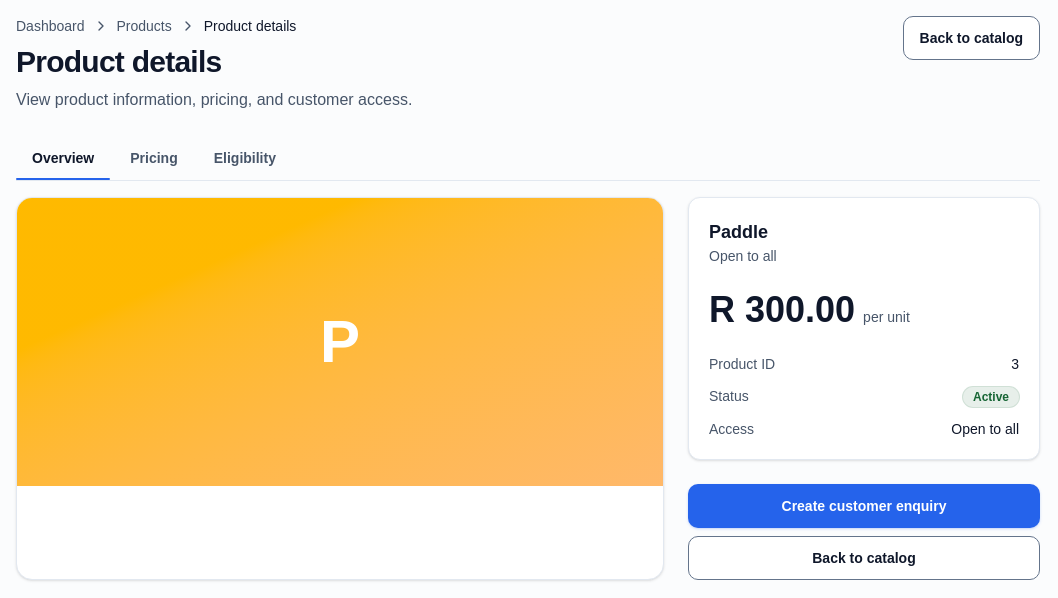
ProductDetails › switches tabs
The width and height of the screenshot is (1058, 598).
Click the tab "Pricing": (154, 158) [114,136,194,180]
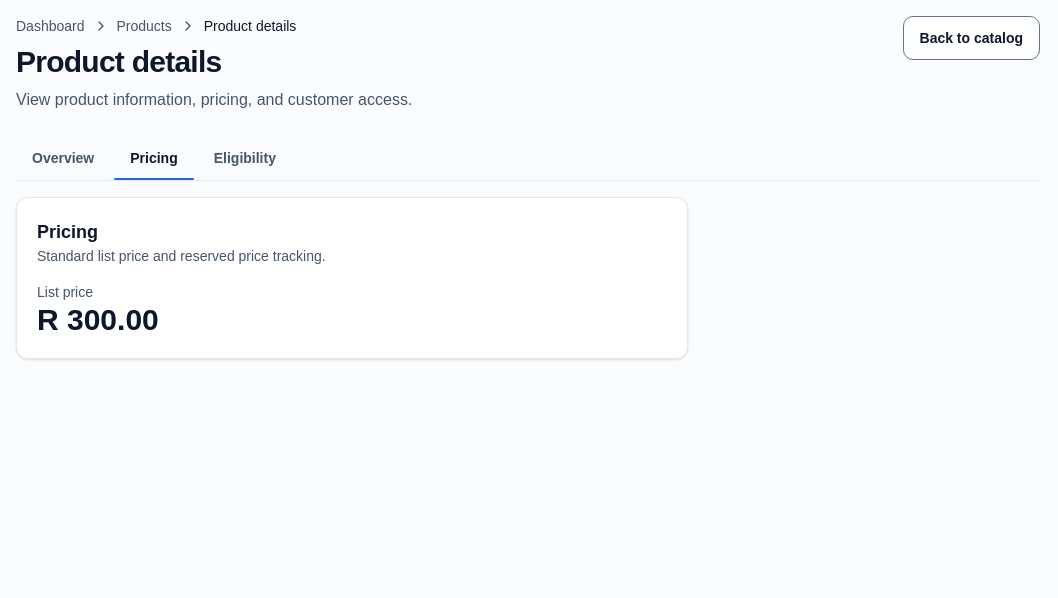
expect the text "List price" is shown: met, box [37,284,93,300]
Click the tab "Eligibility": (245, 158) [198,136,292,180]
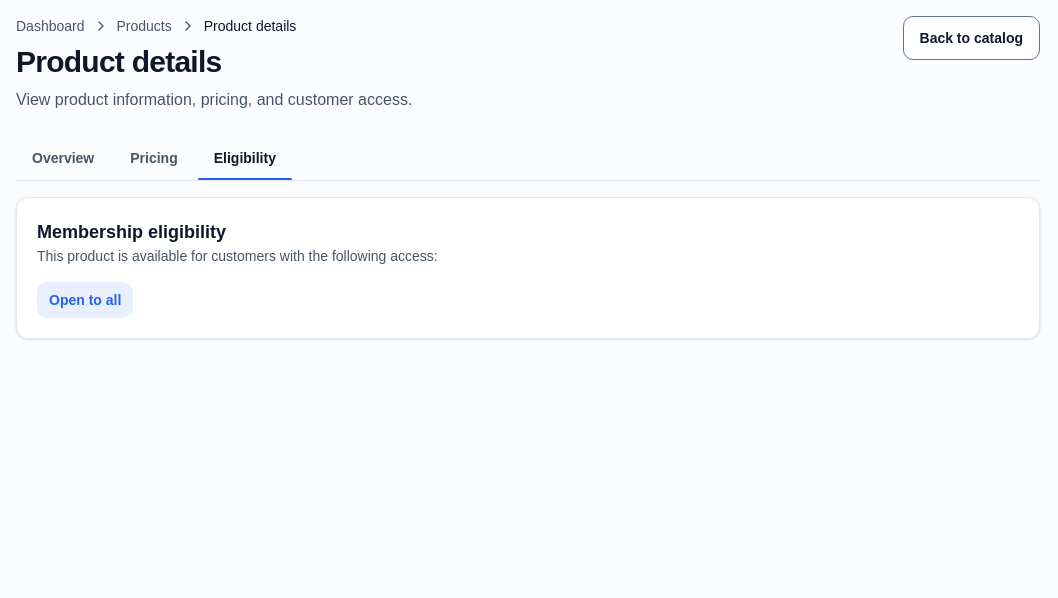
expect the heading "Membership eligibility" is shown: met, box [37,222,226,242]
